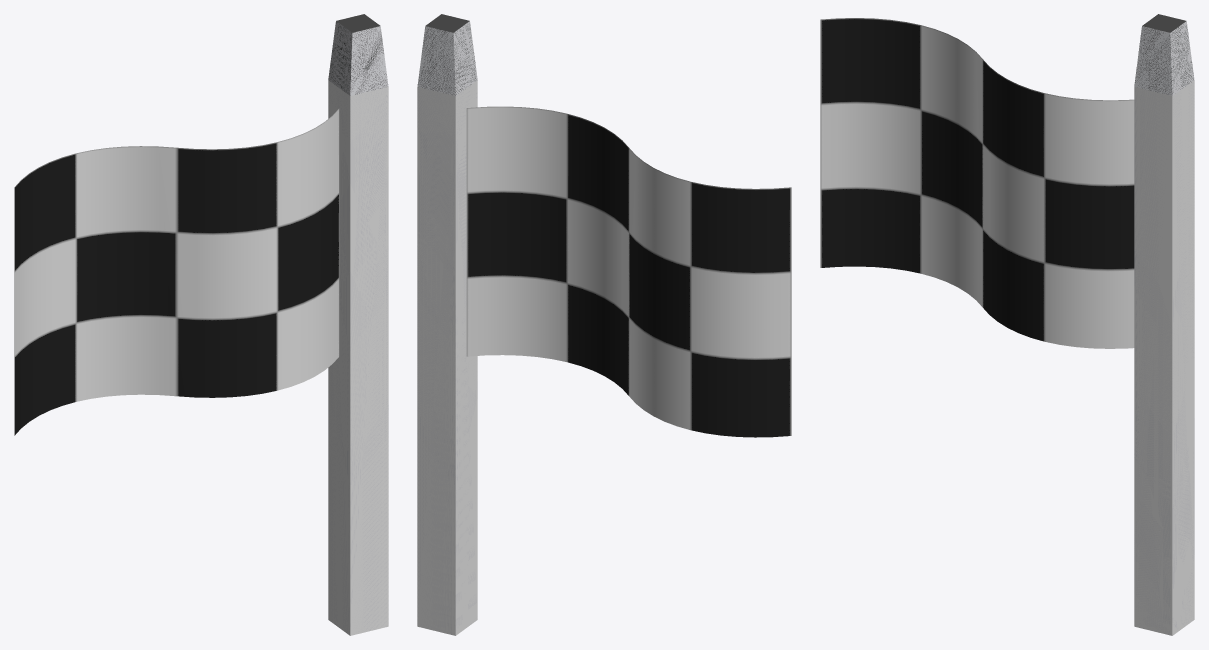
Rendered from flagCheckersSmall.obj.
3 views of the same model, side by side, from view 1: azimuth 30°, elevation 25°; view 2: azimuth 150°, elevation 25°; view 3: azimuth 330°, elevation 25° (orthographic).
Visible parts, largest first — view 1: flagCheckersSmall; view 2: flagCheckersSmall; view 3: flagCheckersSmall.
Boxes of the visible parts, x1,y1,x2,y2 form: flagCheckersSmall: (14, 14, 388, 635); flagCheckersSmall: (417, 14, 791, 635); flagCheckersSmall: (820, 14, 1194, 635).
Bounding box in the file's own units: 0.19 × 0.3 × 0.0352.
Materials: 4 (1 with a texture image).
